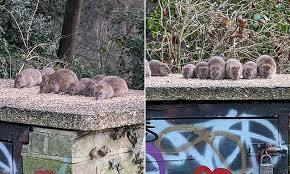rat: (13, 66, 142, 165), (1, 0, 2, 1)
